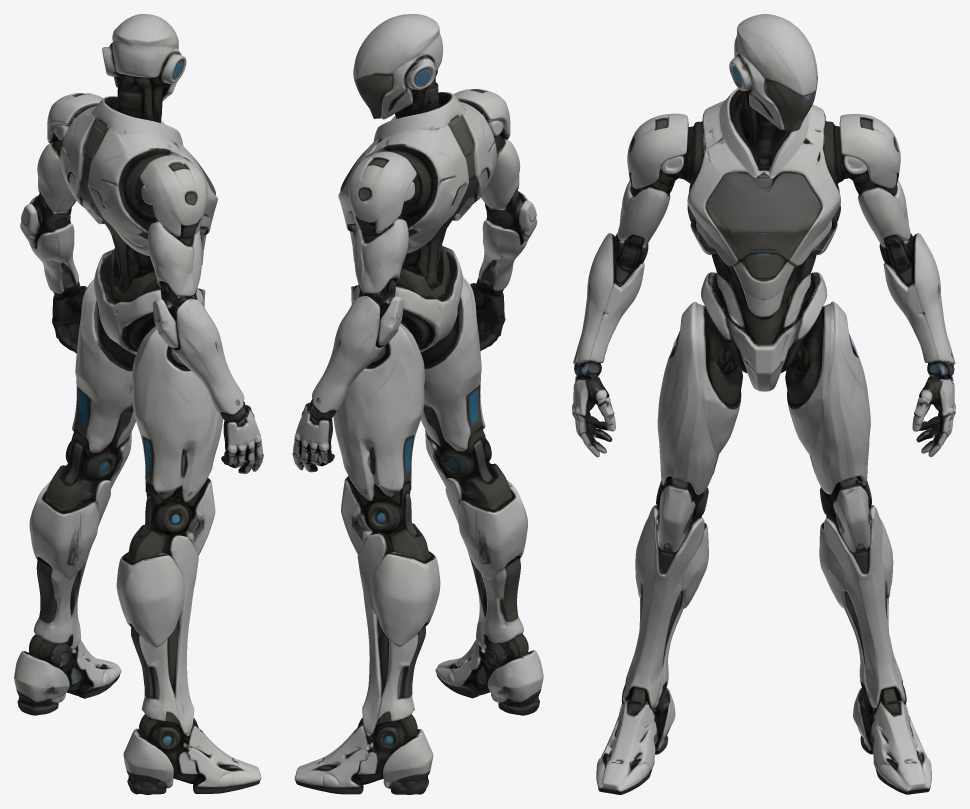
Rendered from 72fc944e-e523-4f53-868b-e6f38d051c8a-model_url.glb.
3 renders of one model, left to right at view 1: azimuth 30°, elevation 25°; view 2: azimuth 150°, elevation 25°; view 3: azimuth 270°, elevation 25°, orthographic. The views are drawn at different scales.
Parts seen in each view (by area): view 1: tripo_node_72fc944e-e523-4f53-868b-e6f38d051c8a; view 2: tripo_node_72fc944e-e523-4f53-868b-e6f38d051c8a; view 3: tripo_node_72fc944e-e523-4f53-868b-e6f38d051c8a.
Boxes of the visible parts, x1=… form: tripo_node_72fc944e-e523-4f53-868b-e6f38d051c8a: x1=14, y1=14, x2=263, y2=794; tripo_node_72fc944e-e523-4f53-868b-e6f38d051c8a: x1=292, y1=14, x2=543, y2=794; tripo_node_72fc944e-e523-4f53-868b-e6f38d051c8a: x1=572, y1=14, x2=955, y2=794.
Size of the model in its own units: 0.1931 by 1 by 0.4605.
Materials: 1 (1 with a texture image).
